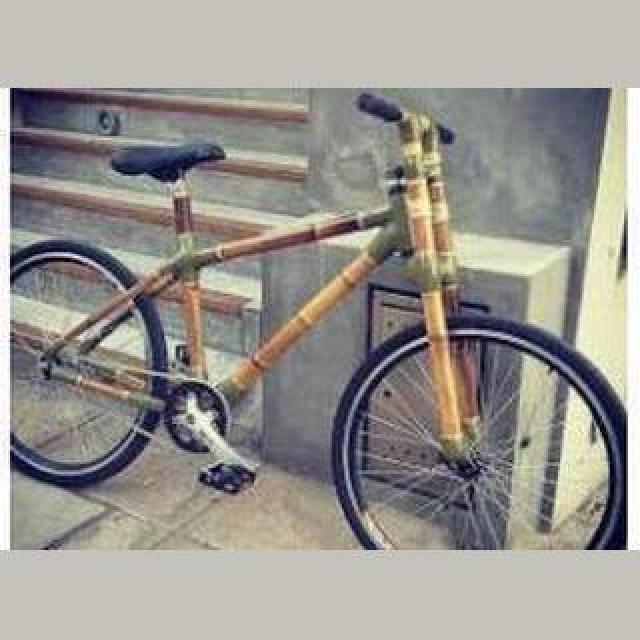Person: (10, 90, 630, 550)
